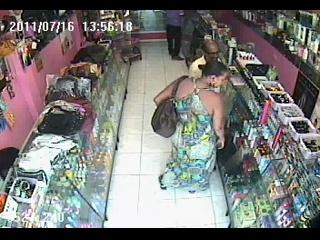Normal: (152, 62, 231, 192), (151, 76, 188, 138), (188, 39, 226, 80), (164, 10, 185, 61)
